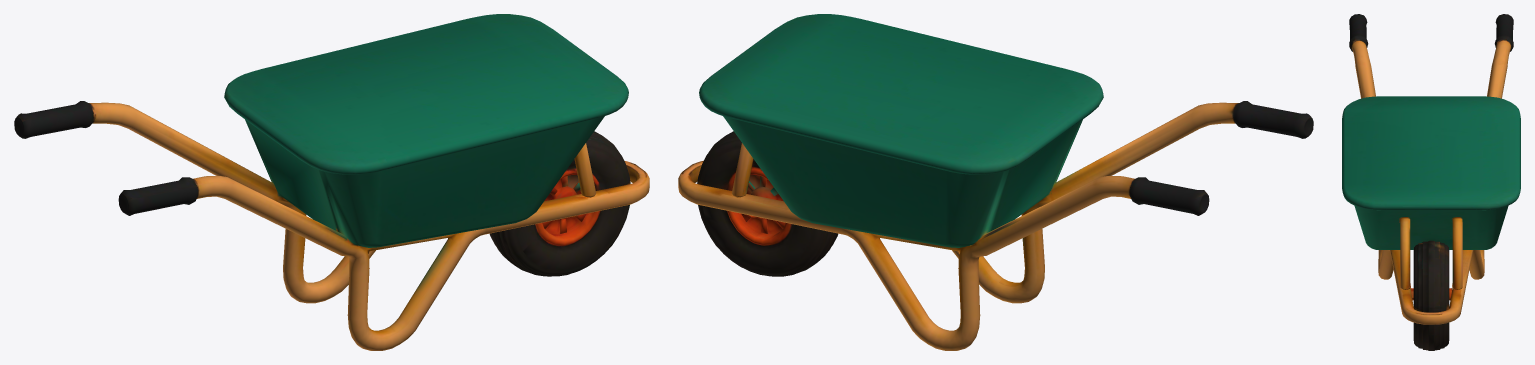
File: a_wheelbarrow_837a89db_v3.glb
The picture shows the model from 3 angles, left to right: view 1: azimuth 30°, elevation 25°; view 2: azimuth 150°, elevation 25°; view 3: azimuth 270°, elevation 25°; orthographic projection. The views are drawn at different scales.
Visible parts, largest first — view 1: material; view 2: material; view 3: material.
Boxes of the visible parts, x1,y1,x2,y2 form: material: (14,14,649,350); material: (678,14,1313,350); material: (1342,14,1520,350).
Bounding box in the file's own units: 1.9 × 0.7604 × 0.7331.
1 material, 1 textured.
